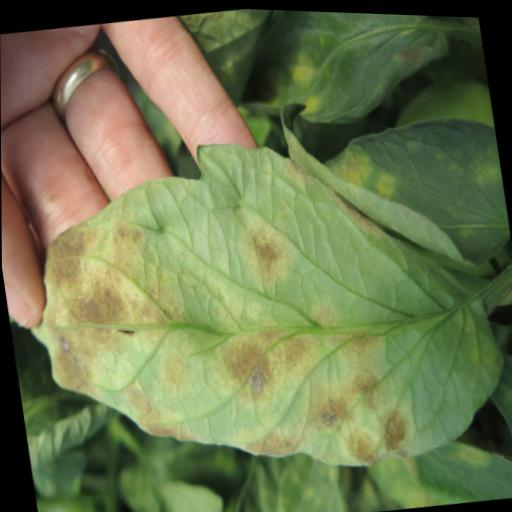Leaf Mold: (1, 100, 512, 512)
